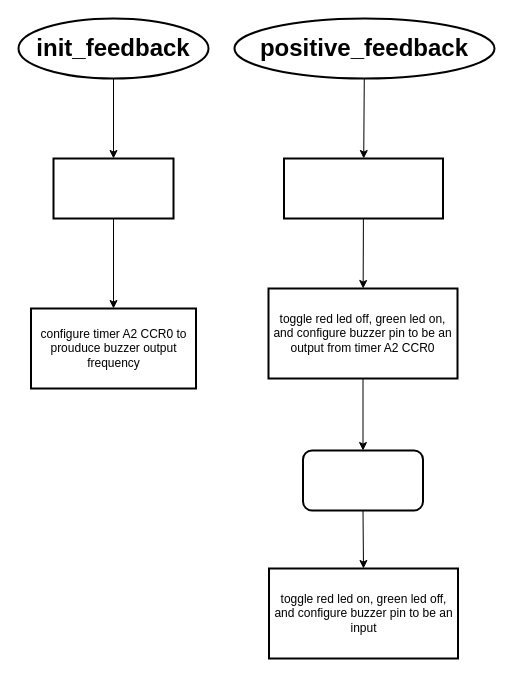
This 512x676 diagram has some shape labels left out. Here are the shapes that lost their labels. From the top down, the centre of each, then its label:
point 113,188: Configure led pins as outputs and turn red led on
point 363,188: configure timer A1 CCR0 to prouduce an interupt in 500 ms
point 363,480: 500 ms delay
